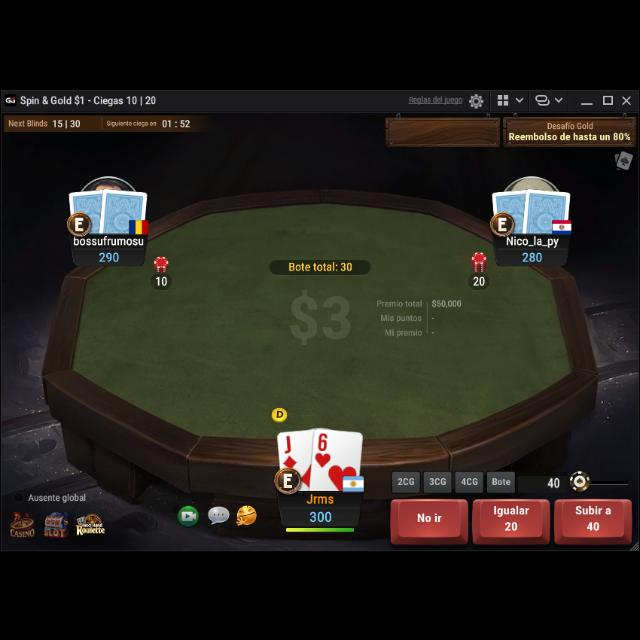6h: (314, 429, 332, 466)
Jd: (282, 431, 300, 467)
bet_text: (156, 272, 168, 284), (472, 274, 486, 284), (155, 274, 169, 284)
card_back: (98, 182, 148, 234), (522, 183, 572, 233), (491, 184, 535, 232), (66, 184, 110, 232)
dealer: (269, 402, 289, 422)
hero_active: (388, 493, 632, 543)
pot_text: (286, 257, 354, 271)
stack_text: (308, 504, 334, 522), (521, 247, 543, 261), (98, 248, 120, 260)
